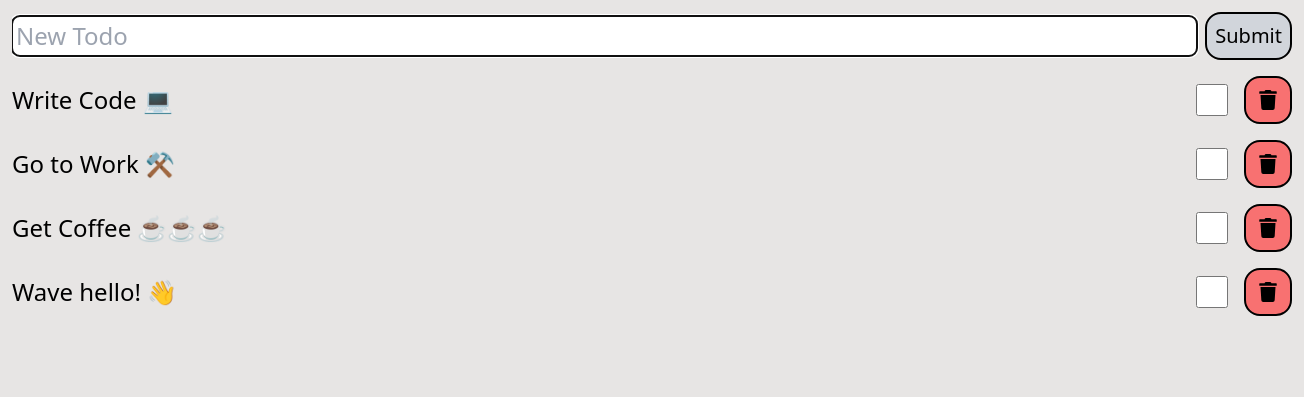
Home › Behavior › should add a new todo
Type "My new todo" into the field with placeholder "New Todo" at (605, 36), box [12,16,1197,56]
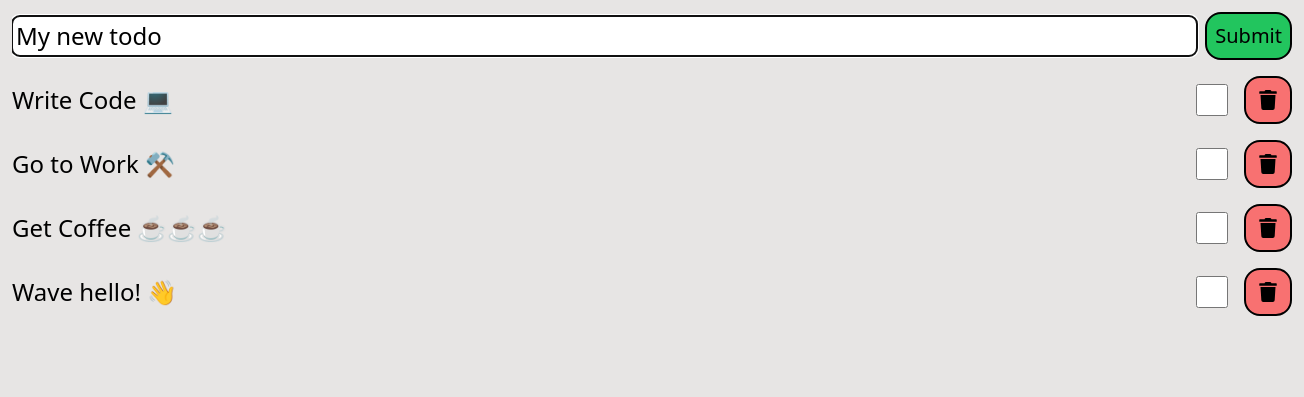
Click the button "Submit" at (1249, 36), box [1205,12,1292,60]
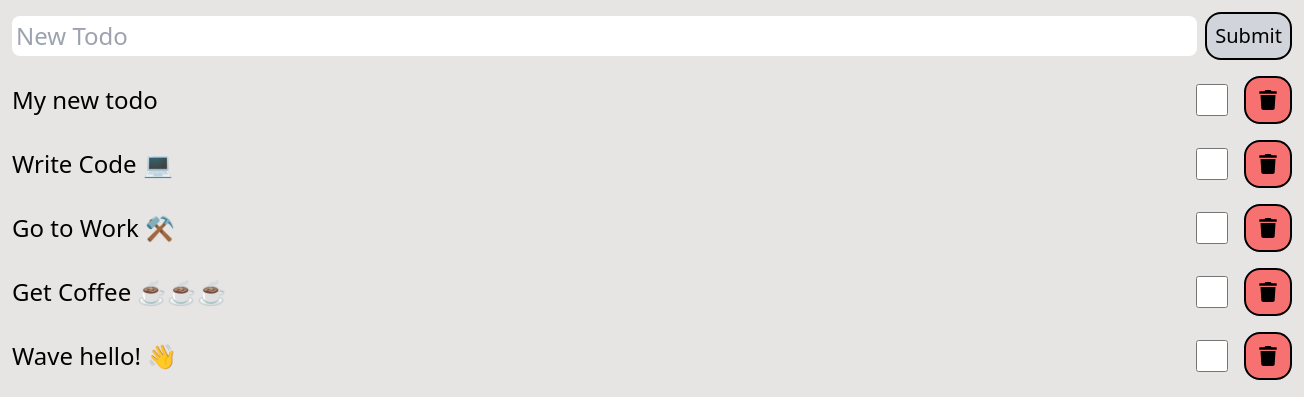
Expected: the field with placeholder "New Todo" is empty, [12,16,1197,56]
Expected: the text "My new todo" is shown, [12,84,158,116]
